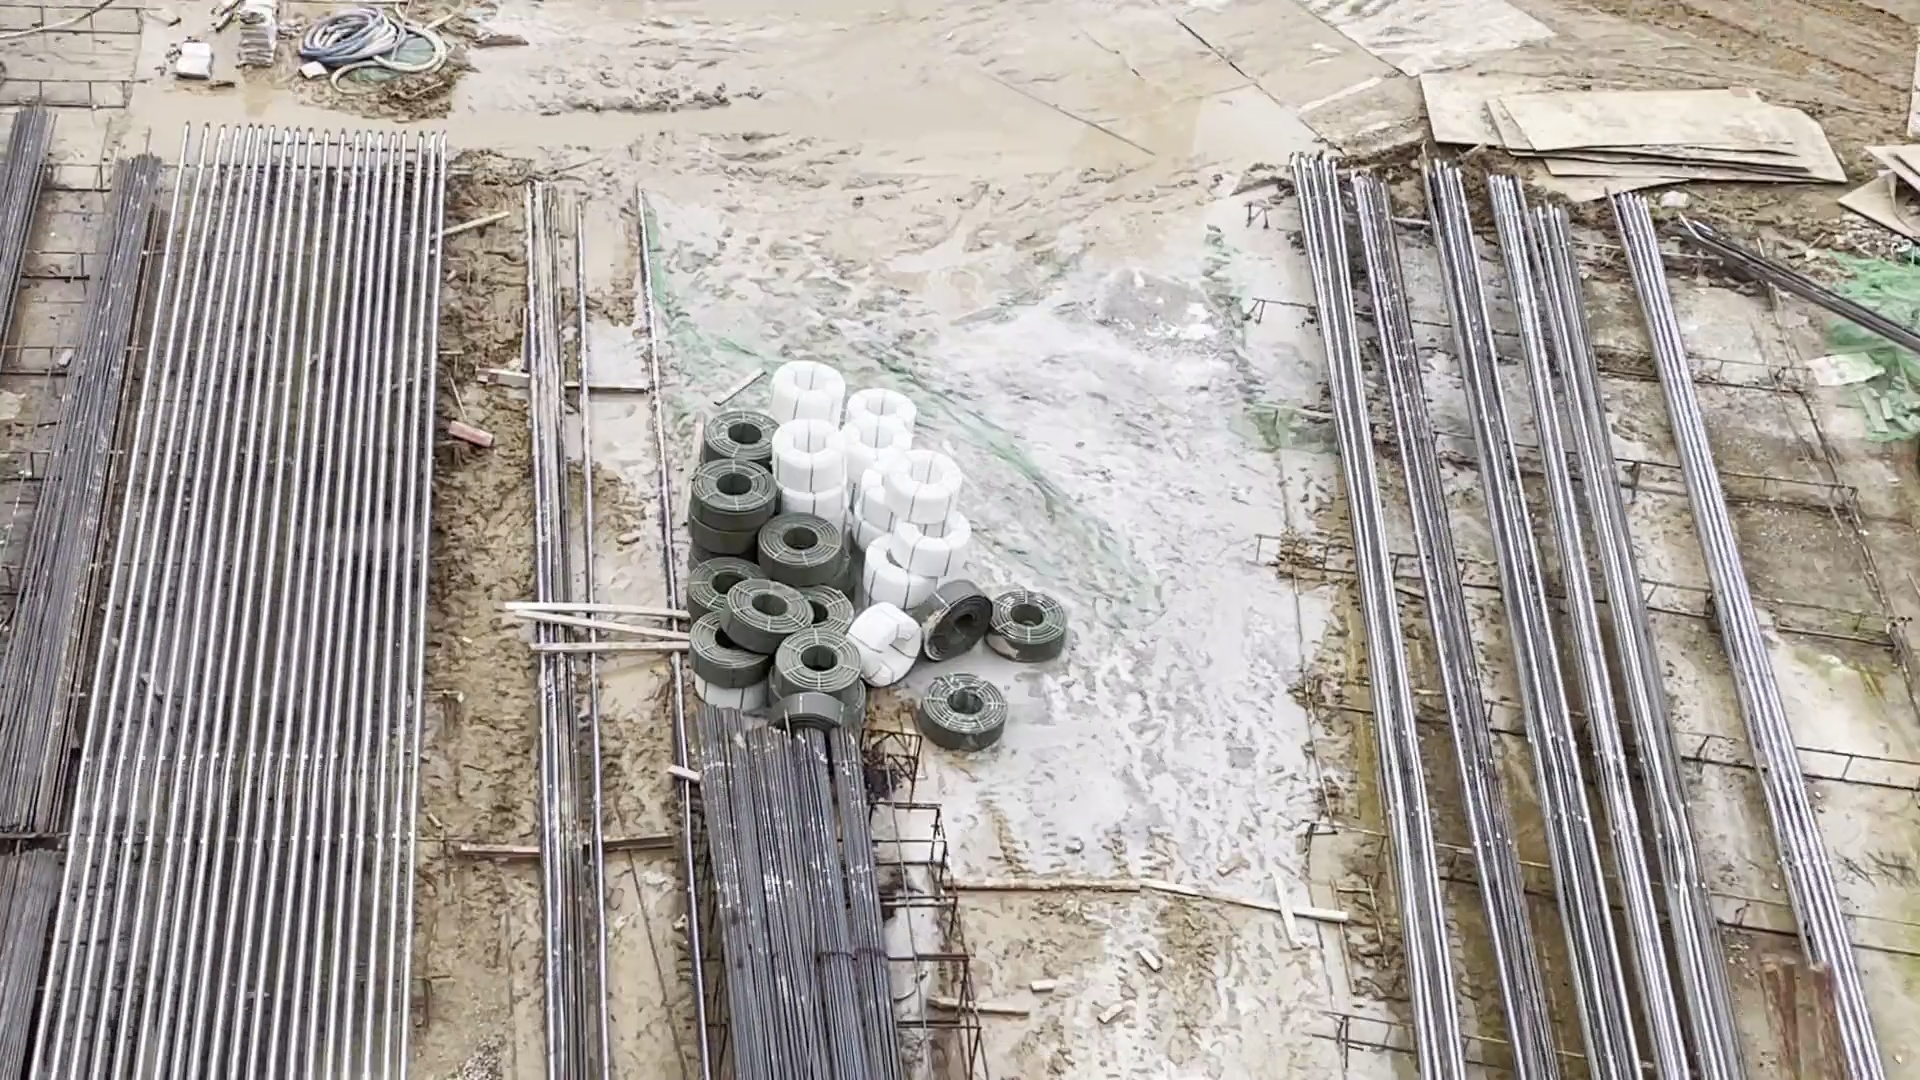rebar: (1315, 171, 1751, 1080), (7, 98, 167, 1072), (698, 698, 910, 1080)
